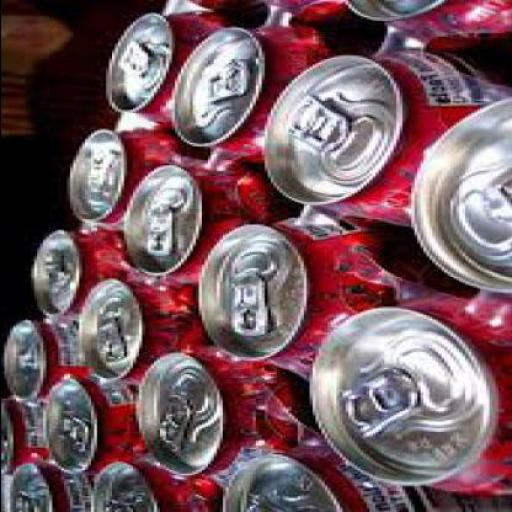metal: (252, 42, 509, 223), (302, 292, 509, 497), (189, 219, 428, 368), (164, 21, 354, 162), (126, 346, 302, 480), (401, 87, 510, 299), (216, 433, 509, 511), (117, 158, 263, 279), (102, 10, 230, 124), (66, 274, 194, 380), (66, 124, 201, 224), (27, 227, 140, 315), (39, 374, 135, 476), (334, 0, 509, 44), (84, 462, 219, 510), (1, 319, 75, 400), (6, 462, 84, 510), (1, 400, 46, 475)
